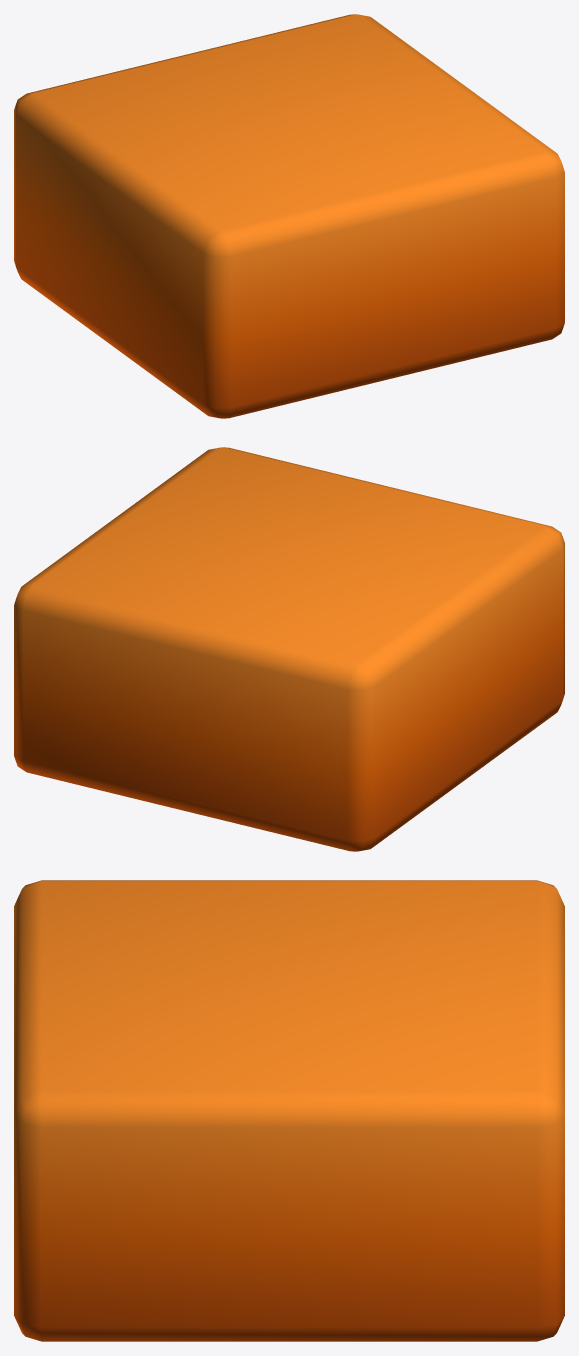
File: 3D_Tile_Ground_03A.fbx
3 renders of one model, top to bottom at view 1: azimuth 30°, elevation 25°; view 2: azimuth 150°, elevation 25°; view 3: azimuth 270°, elevation 25°, orthographic. The views are drawn at different scales.
Parts seen in each view (by area): view 1: 3D_Tile_Ground_03A; view 2: 3D_Tile_Ground_03A; view 3: 3D_Tile_Ground_03A.
Part boxes in pixels (box(x1,y1,x2,y2)): 3D_Tile_Ground_03A: box(14, 14, 564, 418); 3D_Tile_Ground_03A: box(14, 447, 564, 851); 3D_Tile_Ground_03A: box(14, 880, 564, 1341).
Size of the model in its own units: 200 by 100 by 200.
